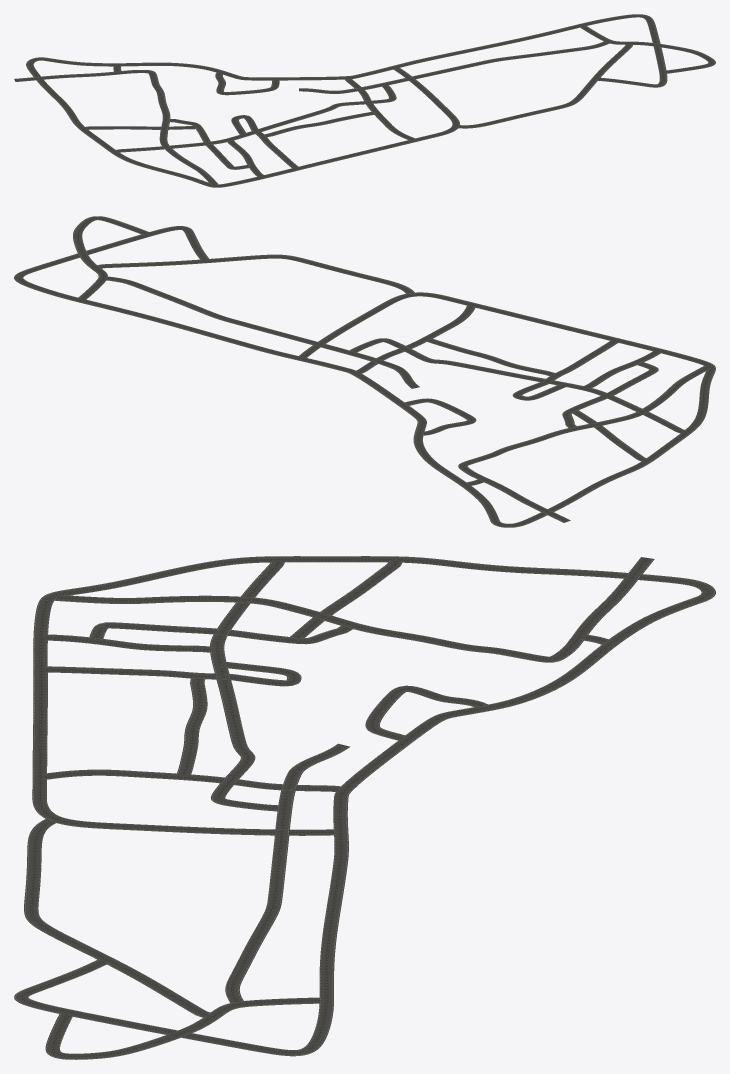
File: ManyRoads.fbx
3 views of the same model, one above another, from view 1: azimuth 30°, elevation 25°; view 2: azimuth 150°, elevation 25°; view 3: azimuth 270°, elevation 25° (orthographic). The views are drawn at different scales.
Parts seen in each view (by area): view 1: Plane.001, Plane.002, Plane.007, Plane.003, Plane.010, Plane.005, Plane.004, Plane.013, Plane.009, Plane.011, Plane.014, Plane.008 (+2 smaller); view 2: Plane.001, Plane.002, Plane.007, Plane.003, Plane.010, Plane.005, Plane.004, Plane.013, Plane.009, Plane.011, Plane.014, Plane.008 (+2 smaller); view 3: Plane.001, Plane.002, Plane.007, Plane.010, Plane.003, Plane.005, Plane.004, Plane.013, Plane.009, Plane.011, Plane.008, Plane.014 (+2 smaller).
Boxes of the visible parts, left/top/right/bottom form: Plane.001: left=43, top=14, right=667, bottom=87; Plane.002: left=26, top=57, right=459, bottom=187; Plane.007: left=14, top=70, right=218, bottom=185; Plane.003: left=299, top=41, right=609, bottom=93; Plane.010: left=115, top=85, right=396, bottom=152; Plane.005: left=459, top=44, right=632, bottom=128; Plane.004: left=580, top=26, right=715, bottom=73; Plane.013: left=231, top=115, right=298, bottom=168; Plane.009: left=169, top=119, right=248, bottom=169; Plane.011: left=345, top=79, right=414, bottom=140; Plane.014: left=264, top=111, right=374, bottom=137; Plane.008: left=215, top=72, right=279, bottom=95; Plane.001: left=14, top=226, right=499, bottom=521; Plane.002: left=299, top=292, right=715, bottom=527; Plane.007: left=458, top=366, right=710, bottom=522; Plane.003: left=106, top=276, right=419, bottom=388; Plane.010: left=349, top=338, right=686, bottom=433; Plane.005: left=97, top=254, right=414, bottom=293; Plane.004: left=73, top=216, right=149, bottom=299; Plane.013: left=512, top=340, right=618, bottom=400; Plane.009: left=562, top=362, right=658, bottom=427; Plane.011: left=356, top=305, right=475, bottom=373; Plane.014: left=426, top=338, right=555, bottom=376; Plane.008: left=404, top=398, right=476, bottom=435; Plane.001: left=14, top=596, right=706, bottom=1056; Plane.002: left=32, top=556, right=715, bottom=835; Plane.007: left=55, top=557, right=654, bottom=662; Plane.010: left=210, top=561, right=284, bottom=811; Plane.003: left=225, top=743, right=350, bottom=1002; Plane.005: left=24, top=819, right=210, bottom=1017; Plane.004: left=45, top=997, right=320, bottom=1059; Plane.013: left=45, top=661, right=301, bottom=686; Plane.009: left=89, top=622, right=352, bottom=644; Plane.011: left=42, top=769, right=340, bottom=792; Plane.008: left=365, top=685, right=487, bottom=740; Plane.014: left=177, top=678, right=207, bottom=774.
Size of the model in its own units: 57635 by 0.0216 by 33948.
